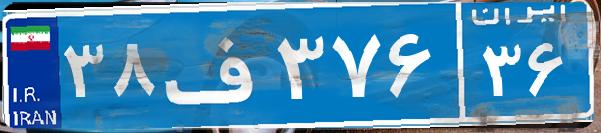3: (273, 28, 330, 110), (57, 26, 110, 107), (475, 38, 525, 113)
6: (385, 28, 445, 110), (525, 38, 570, 115)
7: (330, 28, 385, 110)
8: (110, 28, 158, 105)
ف: (158, 15, 273, 115)
